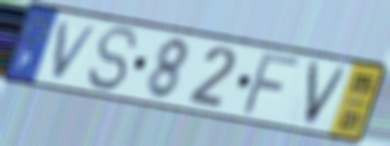2: (185, 45, 241, 112)
8: (145, 36, 191, 102)
F: (238, 51, 305, 118)
S: (85, 24, 140, 94)
V: (300, 58, 352, 130), (49, 19, 102, 82)
